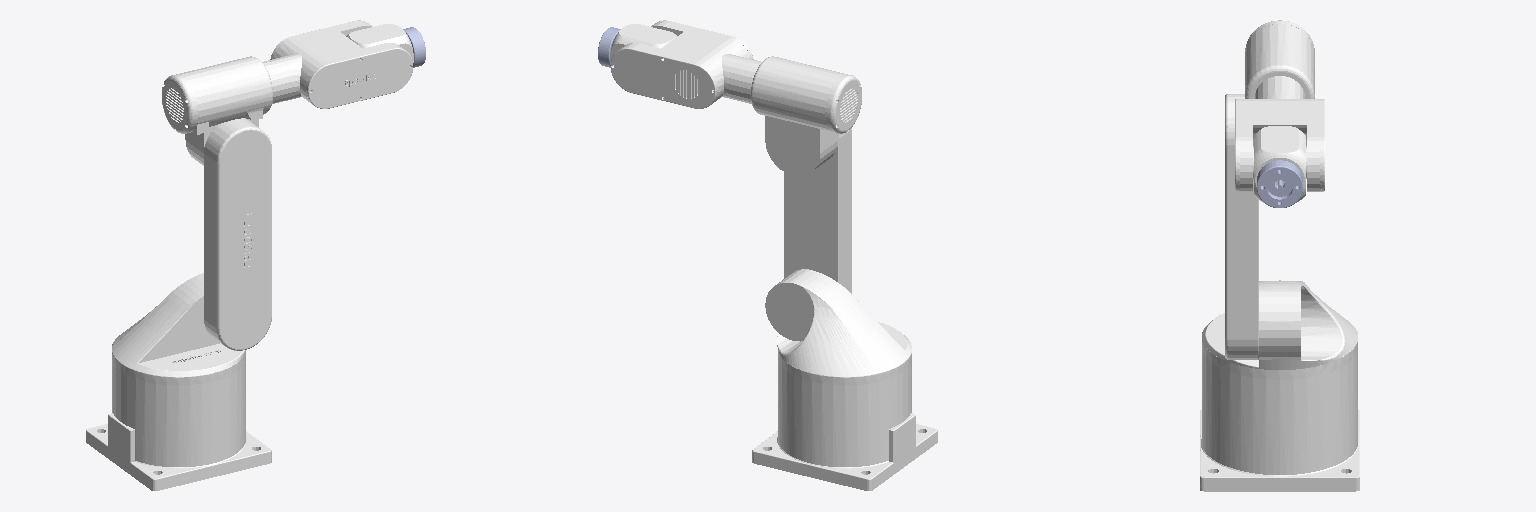
The robot description file, URDF, robot "episode1_urdf_1113":
<?xml version="1.0" encoding="utf-8"?>
<!-- This URDF was automatically created by SolidWorks to URDF Exporter! Originally created by Stephen Brawner (brawner@gmail.com) 
     Commit Version: 1.6.0-4-g7f85cfe  Build Version: 1.6.7995.38578
     For more information, please see http://wiki.ros.org/sw_urdf_exporter -->
<robot
  name="episode1_urdf_1113">
  <link
    name="base_link">
    <inertial>
      <origin
        xyz="0.00192177881203562 -1.35089062853849E-11 0.0572157108139174"
        rpy="0 0 0" />
      <mass
        value="1.94434524582032" />
      <inertia
        ixx="0.00529698933603897"
        ixy="6.54015848945955E-13"
        ixz="0.000148912653633587"
        iyy="0.00502085388113638"
        iyz="-1.11673711011949E-13"
        izz="0.00571194526007169" />
    </inertial>
    <visual>
      <origin
        xyz="0 0 0"
        rpy="0 0 0" />
      <geometry>
        <mesh
          filename="package://episode1_urdf_1113/meshes/visual/base_link.STL" />
      </geometry>
      <material
        name="">
        <color
          rgba="1 1 1 1" />
      </material>
    </visual>
    <collision>
      <origin
        xyz="0 0 0"
        rpy="0 0 0" />
      <geometry>
        <mesh
          filename="package://episode1_urdf_1113/meshes/visual/base_link.STL" />
      </geometry>
    </collision>
  </link>
  <link
    name="link1">
    <inertial>
      <origin
        xyz="0.012949372867917 0.00484192069643471 0.142856294215707"
        rpy="0 0 0" />
      <mass
        value="0.623226472029084" />
      <inertia
        ixx="0.000786968430642166"
        ixy="3.99405014914454E-05"
        ixz="-0.000207598516251089"
        iyy="0.00116761048980126"
        iyz="-3.06673432402323E-06"
        izz="0.00135422215978505" />
    </inertial>
    <visual>
      <origin
        xyz="0 0 0"
        rpy="0 0 0" />
      <geometry>
        <mesh
          filename="package://episode1_urdf_1113/meshes/visual/link1.STL" />
      </geometry>
      <material
        name="">
        <color
          rgba="1 1 1 1" />
      </material>
    </visual>
    <collision>
      <origin
        xyz="0 0 0"
        rpy="0 0 0" />
      <geometry>
        <mesh
          filename="package://episode1_urdf_1113/meshes/visual/link1.STL" />
      </geometry>
    </collision>
  </link>
  <joint
    name="joint1"
    type="revolute">
    <origin
      xyz="0 0 0"
      rpy="0 0 0" />
    <parent
      link="base_link" />
    <child
      link="link1" />
    <axis
      xyz="0 0 1" />
    <limit
      lower="-3.141592654"
      upper="2.792526803"
      effort="0"
      velocity="0" />
  </joint>
  <link
    name="link2">
    <inertial>
      <origin
        xyz="-1.32869861670798E-06 0.100001665328834 0.015959723237465"
        rpy="0 0 0" />
      <mass
        value="0.569588734458939" />
      <inertia
        ixx="0.00316756336277441"
        ixy="-1.66564952720645E-09"
        ixz="1.17608928664481E-08"
        iyy="0.000267820702757213"
        iyz="-1.47208629484799E-08"
        izz="0.00333864892224692" />
    </inertial>
    <visual>
      <origin
        xyz="0 0 0"
        rpy="0 0 0" />
      <geometry>
        <mesh
          filename="package://episode1_urdf_1113/meshes/visual/link2.STL" />
      </geometry>
      <material
        name="">
        <color
          rgba="1 1 1 1" />
      </material>
    </visual>
    <collision>
      <origin
        xyz="0 0 0"
        rpy="0 0 0" />
      <geometry>
        <mesh
          filename="package://episode1_urdf_1113/meshes/visual/link2.STL" />
      </geometry>
    </collision>
  </link>
  <joint
    name="joint2"
    type="revolute">
    <origin
      xyz="0.055 -0.02 0.166"
      rpy="1.5708 0 0" />
    <parent
      link="link1" />
    <child
      link="link2" />
    <axis
      xyz="0 0 -1" />
    <limit
      lower="-1.570796327"
      upper="1.570796327"
      effort="0"
      velocity="0" />
  </joint>
  <link
    name="link3">
    <inertial>
      <origin
        xyz="-0.00503027576830156 -0.0404887108521718 -0.0199388130729801"
        rpy="0 0 0" />
      <mass
        value="0.549826349800173" />
      <inertia
        ixx="0.000620878135139701"
        ixy="-5.54581979350444E-05"
        ixz="-4.17229442198875E-07"
        iyy="0.000655622275177175"
        iyz="-1.61868183324236E-07"
        izz="0.00102866996342336" />
    </inertial>
    <visual>
      <origin
        xyz="0 0 0"
        rpy="0 0 0" />
      <geometry>
        <mesh
          filename="package://episode1_urdf_1113/meshes/visual/link3.STL" />
      </geometry>
      <material
        name="">
        <color
          rgba="1 1 1 1" />
      </material>
    </visual>
    <collision>
      <origin
        xyz="0 0 0"
        rpy="0 0 0" />
      <geometry>
        <mesh
          filename="package://episode1_urdf_1113/meshes/visual/link3.STL" />
      </geometry>
    </collision>
  </link>
  <joint
    name="joint3"
    type="revolute">
    <origin
      xyz="0 0.2 0"
      rpy="0 0 3.1416" />
    <parent
      link="link2" />
    <child
      link="link3" />
    <axis
      xyz="0 0 -1" />
    <limit
      lower="-1.448623279"
      upper="1.396263402"
      effort="0"
      velocity="0" />
  </joint>
  <link
    name="link4">
    <inertial>
      <origin
        xyz="2.88118101265944E-07 -5.27642396723571E-05 -0.13259317899127"
        rpy="0 0 0" />
      <mass
        value="0.39634446783375" />
      <inertia
        ixx="0.000695803455657235"
        ixy="1.34035755473953E-10"
        ixz="-1.05098388614267E-09"
        iyy="0.000582583035257818"
        iyz="9.30436603055154E-09"
        izz="0.000289626955442537" />
    </inertial>
    <visual>
      <origin
        xyz="0 0 0"
        rpy="0 0 0" />
      <geometry>
        <mesh
          filename="package://episode1_urdf_1113/meshes/visual/link4.STL" />
      </geometry>
      <material
        name="">
        <color
          rgba="1 1 1 1" />
      </material>
    </visual>
    <collision>
      <origin
        xyz="0 0 0"
        rpy="0 0 0" />
      <geometry>
        <mesh
          filename="package://episode1_urdf_1113/meshes/visual/link4.STL" />
      </geometry>
    </collision>
  </link>
  <joint
    name="joint4"
    type="revolute">
    <origin
      xyz="0 -0.056 -0.02"
      rpy="-1.5708 0 -1.5708" />
    <parent
      link="link3" />
    <child
      link="link4" />
    <axis
      xyz="0 0 -1" />
    <limit
      lower="-0.523598776"
      upper="5.323254219"
      effort="0"
      velocity="0" />
  </joint>
  <link
    name="link5">
    <inertial>
      <origin
        xyz="-0.00804752993137878 3.79962756813512E-08 1.24574966638758E-07"
        rpy="0 0 0" />
      <mass
        value="0.151750313626712" />
      <inertia
        ixx="6.52695660760048E-05"
        ixy="1.38019799075754E-10"
        ixz="4.08040033496789E-10"
        iyy="6.74351950739701E-05"
        iyz="-9.14692973835531E-12"
        izz="7.16896043757008E-05" />
    </inertial>
    <visual>
      <origin
        xyz="0 0 0"
        rpy="0 0 0" />
      <geometry>
        <mesh
          filename="package://episode1_urdf_1113/meshes/visual/link5.STL" />
      </geometry>
      <material
        name="">
        <color
          rgba="1 1 1 1" />
      </material>
    </visual>
    <collision>
      <origin
        xyz="0 0 0"
        rpy="0 0 0" />
      <geometry>
        <mesh
          filename="package://episode1_urdf_1113/meshes/visual/link5.STL" />
      </geometry>
    </collision>
  </link>
  <joint
    name="joint5"
    type="revolute">
    <origin
      xyz="0 0 -0.192"
      rpy="1.5708 -1.5708 0" />
    <parent
      link="link4" />
    <child
      link="link5" />
    <axis
      xyz="0 0 -1" />
    <limit
      lower="-1.919862177"
      upper="1.919862177"
      effort="0"
      velocity="0" />
  </joint>
  <link
    name="link6">
    <inertial>
      <origin
        xyz="0 -3.28657902245896E-06 -0.0086570290314496"
        rpy="0 0 0" />
      <mass
        value="0.0182966455302251" />
      <inertia
        ixx="2.75581662069161E-06"
        ixy="4.25839600750795E-14"
        ixz="8.47285648856334E-22"
        iyy="2.75621230413663E-06"
        iyz="5.43584357646079E-10"
        izz="4.78464022795981E-06" />
    </inertial>
    <visual>
      <origin
        xyz="0 0 0"
        rpy="0 0 0" />
      <geometry>
        <mesh
          filename="package://episode1_urdf_1113/meshes/visual/link6.STL" />
      </geometry>
      <material
        name="">
        <color
          rgba="0.792156862745098 0.819607843137255 0.933333333333333 1" />
      </material>
    </visual>
    <collision>
      <origin
        xyz="0 0 0"
        rpy="0 0 0" />
      <geometry>
        <mesh
          filename="package://episode1_urdf_1113/meshes/visual/link6.STL" />
      </geometry>
    </collision>
  </link>
  <joint
    name="joint6"
    type="revolute">
    <origin
      xyz="-0.055 0 0"
      rpy="1.5708 0 -1.5708" />
    <parent
      link="link5" />
    <child
      link="link6" />
    <axis
      xyz="0 0 1" />
    <limit
      lower="-0.523598776"
      upper="5.323254219"
      effort="0"
      velocity="0" />
  </joint>
</robot>

--- Facts derived from the render (not from the file) ---
3 views of the same robot in one strip: view 1: azimuth 30°, elevation 25°; view 2: azimuth 150°, elevation 25°; view 3: azimuth 270°, elevation 25° (orthographic).
Robot: episode1_urdf_1113 — 7 links, 6 joints (6 revolute); root link base_link; default pose: every joint at zero.
Links seen in each view (by area): view 1: base_link, link2, link1, link3, link4, link5; view 2: base_link, link1, link3, link2, link4, link5; view 3: base_link, link1, link2, link4, link3, link5, link6.
Boxes of the visible links, box(x1,y1,x2,y2) form: base_link: box(86, 360, 271, 490); link2: box(204, 118, 271, 350); link1: box(112, 273, 245, 384); link3: box(162, 56, 295, 165); link4: box(270, 20, 412, 108); link5: box(346, 24, 413, 62); base_link: box(752, 360, 937, 490); link1: box(765, 269, 911, 384); link3: box(728, 56, 861, 175); link2: box(784, 128, 851, 293); link4: box(611, 20, 753, 108); link5: box(610, 24, 677, 62); base_link: box(1200, 351, 1359, 491); link1: box(1202, 280, 1357, 379); link2: box(1225, 94, 1258, 359); link4: box(1235, 90, 1324, 191); link3: box(1245, 20, 1314, 98); link5: box(1253, 126, 1306, 202); link6: box(1257, 160, 1302, 207).
Bounding box of the posed robot: 0.378 × 0.152 × 0.455 m (x, y, z).
Meshes: 7 distinct files referenced, 7 mesh visuals loaded (7 binary STL).
